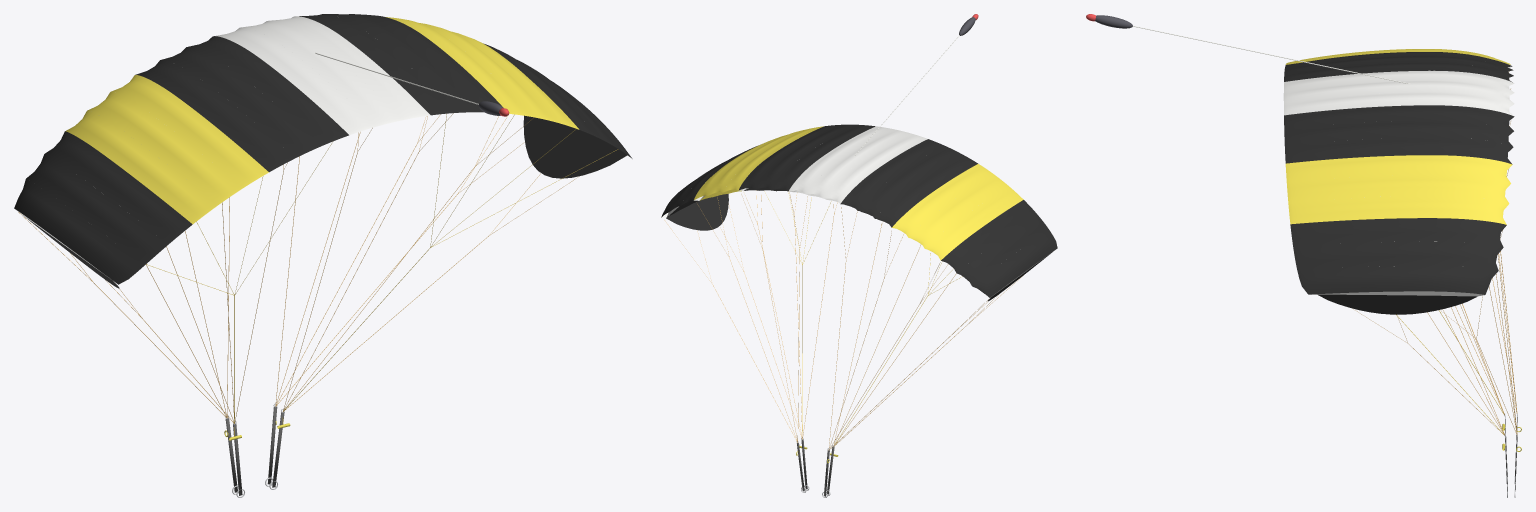
File: PD_CompVelocity_90.glb
3 views of the same model, side by side, from view 1: azimuth 30°, elevation 25°; view 2: azimuth 150°, elevation 25°; view 3: azimuth 270°, elevation 25° (orthographic). The views are drawn at different scales.
Visible parts, largest first — view 1: TopSkin, Stabilizers, Lines, Risers, SteeringLines; view 2: TopSkin, Lines, Stabilizers, Risers, BottomSkin, SteeringLines; view 3: TopSkin, Stabilizers, Lines, PilotChute, Ribs.
Boxes of the visible parts, box(x1,y1,x2,y2) form: TopSkin: box(14, 14, 631, 284); Stabilizers: box(23, 115, 627, 288); Lines: box(18, 113, 577, 423); Risers: box(224, 403, 290, 497); SteeringLines: box(146, 114, 618, 436); TopSkin: box(661, 124, 1057, 297); Lines: box(664, 190, 1023, 450); Stabilizers: box(666, 194, 1050, 301); Risers: box(796, 437, 838, 497); BottomSkin: box(668, 187, 984, 293); SteeringLines: box(764, 191, 962, 443); TopSkin: box(1283, 49, 1514, 294); Stabilizers: box(1318, 294, 1477, 314); Lines: box(1352, 71, 1517, 435); PilotChute: box(1086, 14, 1410, 83); Ribs: box(1312, 66, 1511, 296).
Size of the model in its own units: 4.15 by 4.26 by 3.53.
